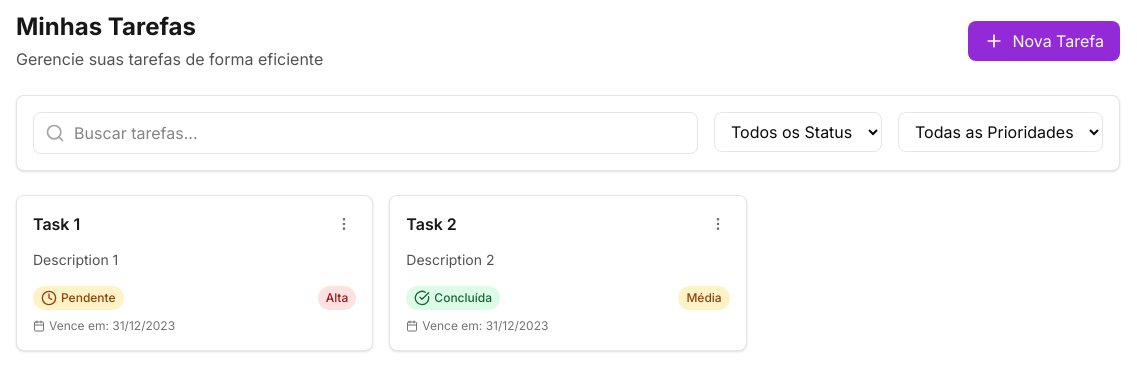
Test case: DashboardPage › should filter tasks by search term
The image size is (1137, 369).
Check: the heading "Task 1" is shown, box [33,212,80,236]
Check: the heading "Task 2" is shown, box [406,212,457,236]
Type "Task 1" into the field with placeholder "Buscar tarefas..." at (366, 133), box [33,112,698,154]
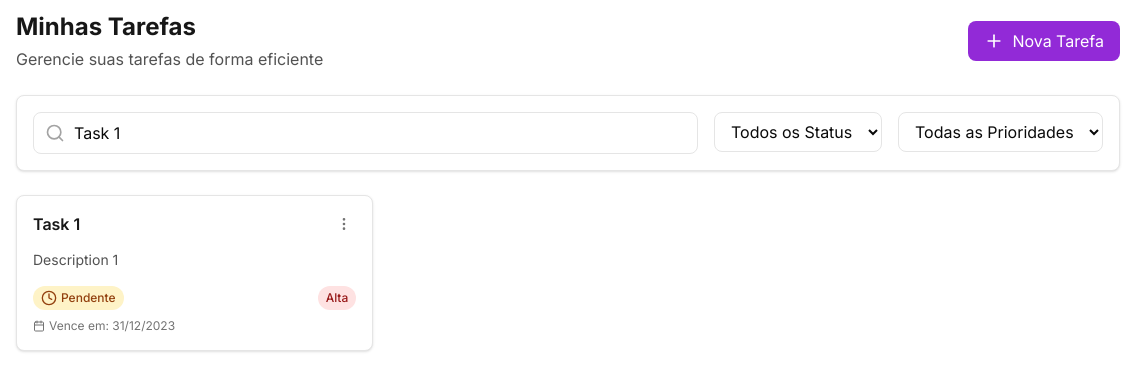
Check: the heading "Task 1" is shown, box [33,212,80,236]
Check: the heading "Task 2" is gone
